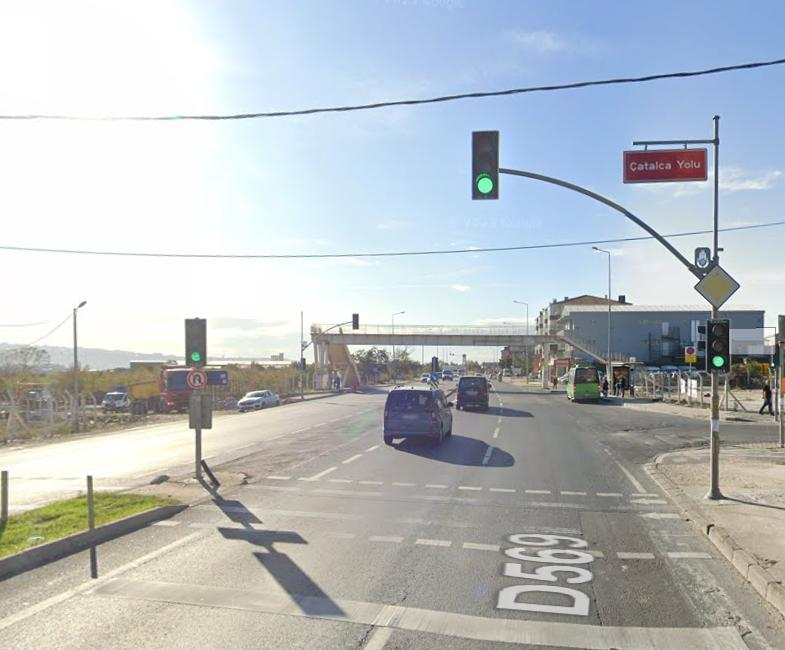greenlight: (472, 130, 500, 200), (707, 320, 730, 368), (185, 318, 207, 366)
